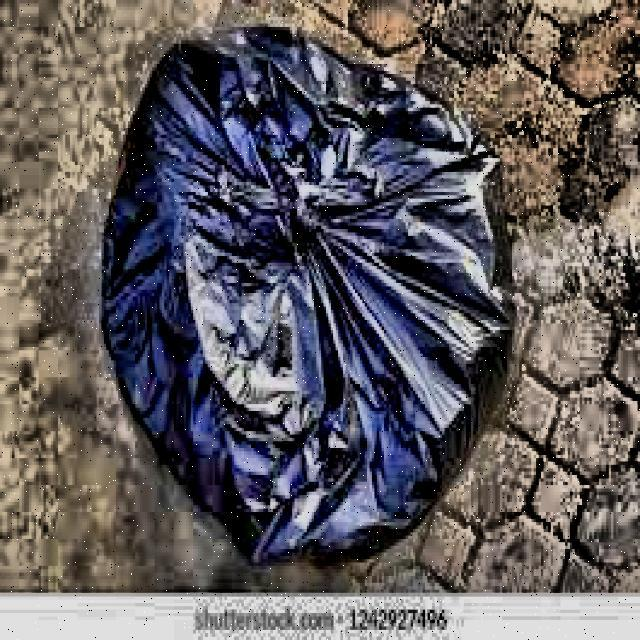Trashbag: (90, 20, 532, 567)
